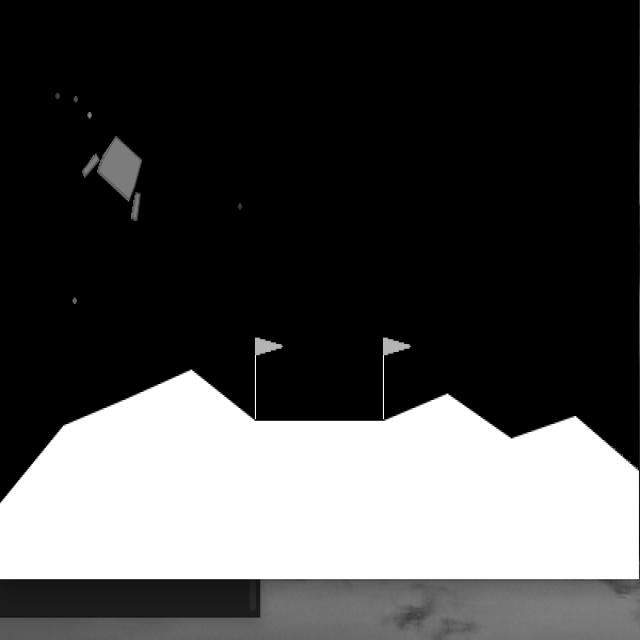lander: (81, 135, 170, 225)
landing_point: (255, 337, 385, 421)
